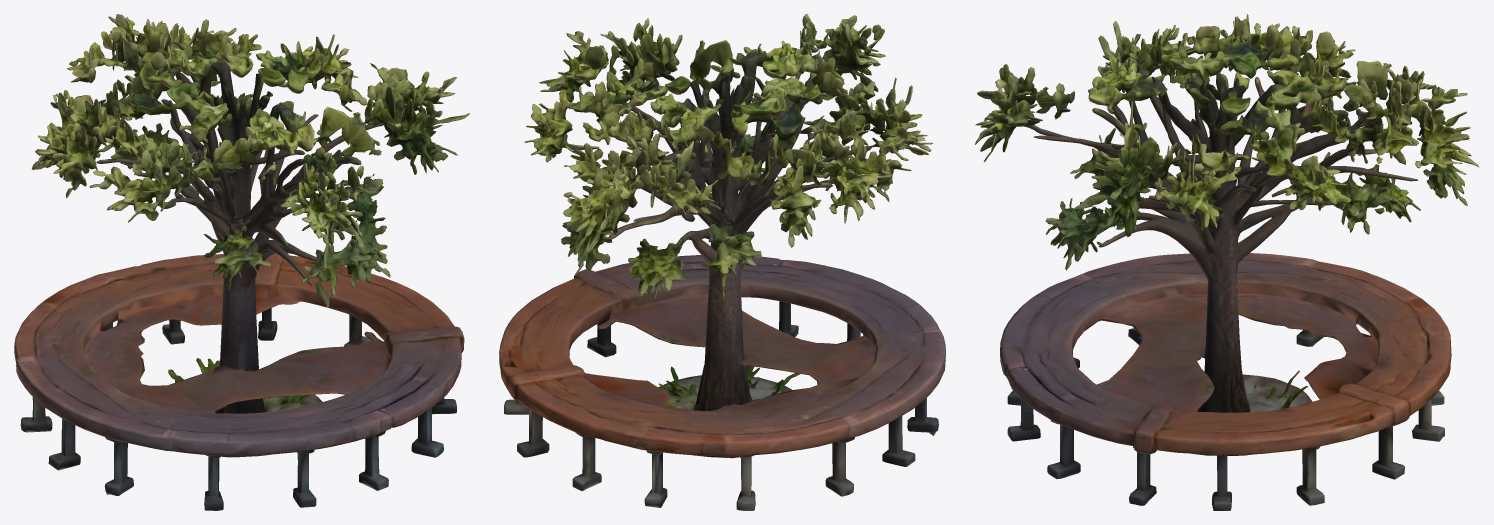
File: plaza-seat-circle.glb
The picture shows the model from 3 angles, left to right: view 1: azimuth 30°, elevation 25°; view 2: azimuth 150°, elevation 25°; view 3: azimuth 270°, elevation 25°; orthographic projection.
Visible parts, largest first — view 1: tripo_node_ae42db32-e7bc-44fa-8441-ebd13fdd8c5a; view 2: tripo_node_ae42db32-e7bc-44fa-8441-ebd13fdd8c5a; view 3: tripo_node_ae42db32-e7bc-44fa-8441-ebd13fdd8c5a.
Part boxes in pixels (x1,y1,x2,y2): tripo_node_ae42db32-e7bc-44fa-8441-ebd13fdd8c5a: [14, 14, 469, 510]; tripo_node_ae42db32-e7bc-44fa-8441-ebd13fdd8c5a: [499, 14, 945, 510]; tripo_node_ae42db32-e7bc-44fa-8441-ebd13fdd8c5a: [975, 14, 1479, 510].
Bounding box in the file's own units: 0.94 × 0.8001 × 1.05.
1 material, 1 textured.
